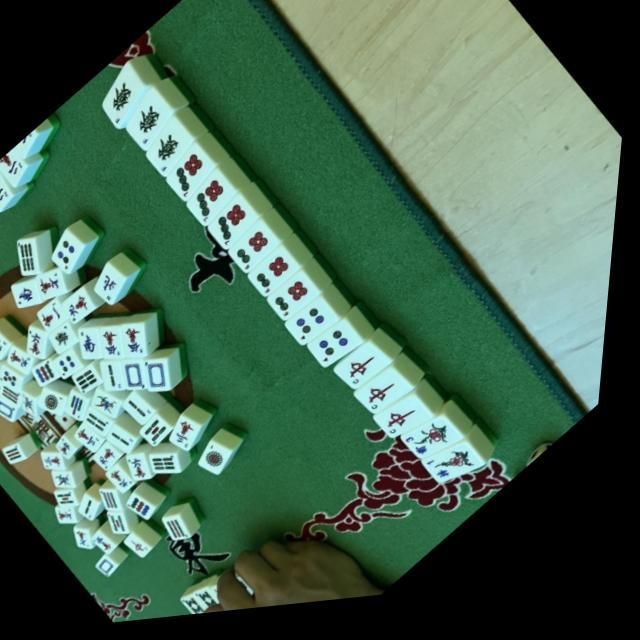bf1: (430, 442, 491, 503)
bf3: (407, 415, 468, 476)
hdg: (123, 95, 181, 152), (96, 72, 154, 129), (144, 123, 200, 179)
hdr: (364, 376, 414, 424), (345, 351, 393, 398), (386, 403, 432, 448)
sd4: (289, 303, 341, 354), (314, 326, 366, 376)
sd6: (232, 227, 284, 279), (252, 252, 304, 304), (272, 276, 324, 328)
sd7: (208, 200, 264, 256), (186, 174, 243, 228), (168, 152, 218, 202)
